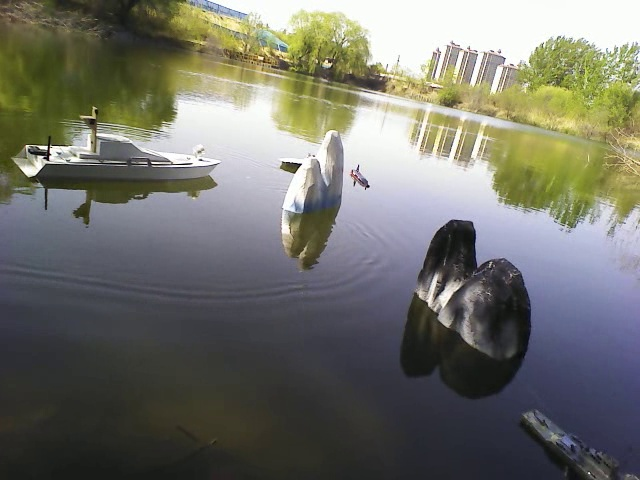boat: (413, 211, 540, 364), (13, 132, 227, 188)
iceberg: (284, 128, 348, 216)
submarine: (348, 161, 382, 193)
warship: (516, 403, 633, 476)
